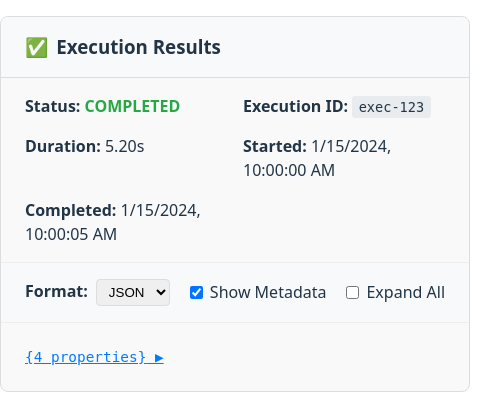
Test: WorkflowExecutionResults › toggles metadata visibility
This screenshot has width=487, height=409.
expect the text "Status:" is shown: met, box [25, 95, 80, 117]
// Toggle metadata off
Click the checkbox labelled "Show Metadata".
click(196, 292)  # box [190, 286, 203, 299]
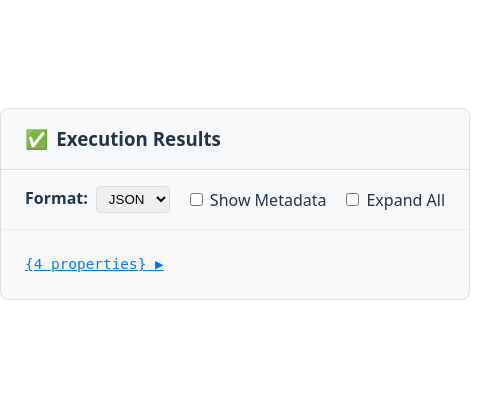
expect the text "Status:" is gone: met
